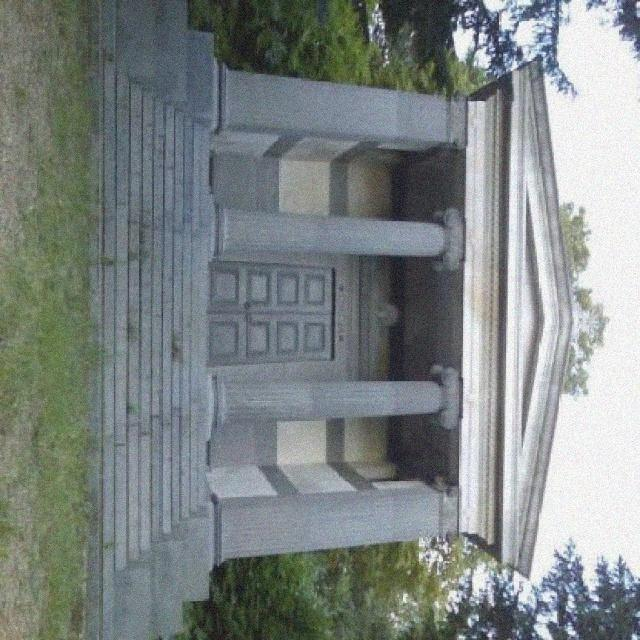stair: (86, 0, 217, 640)
